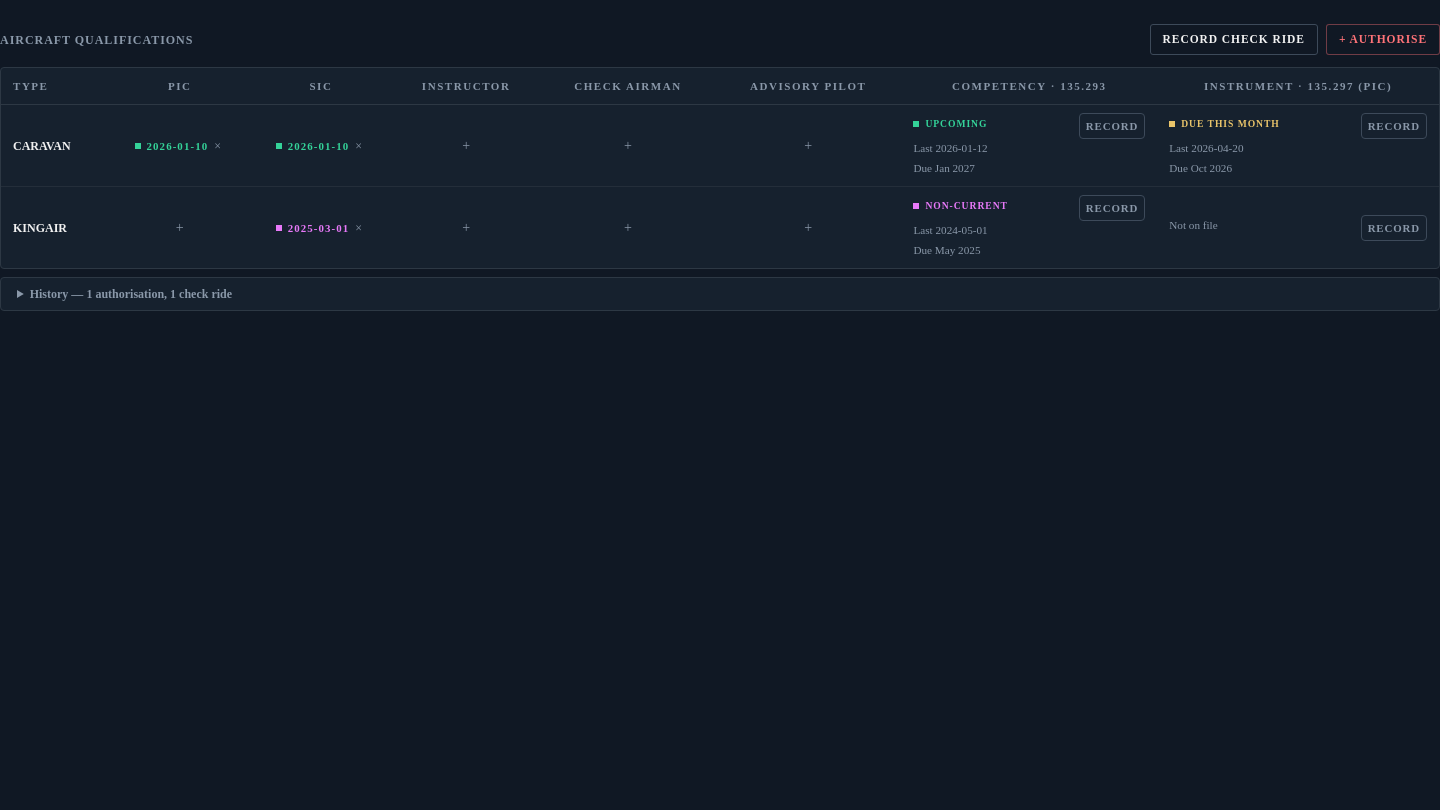
TypeQualificationsCard › revokes by the authorisation behind the cell, and shows a refusal
Click the button named "Revoke SIC on KINGAIR". click: {"x": 359, "y": 228}
box: [351,220,366,236]
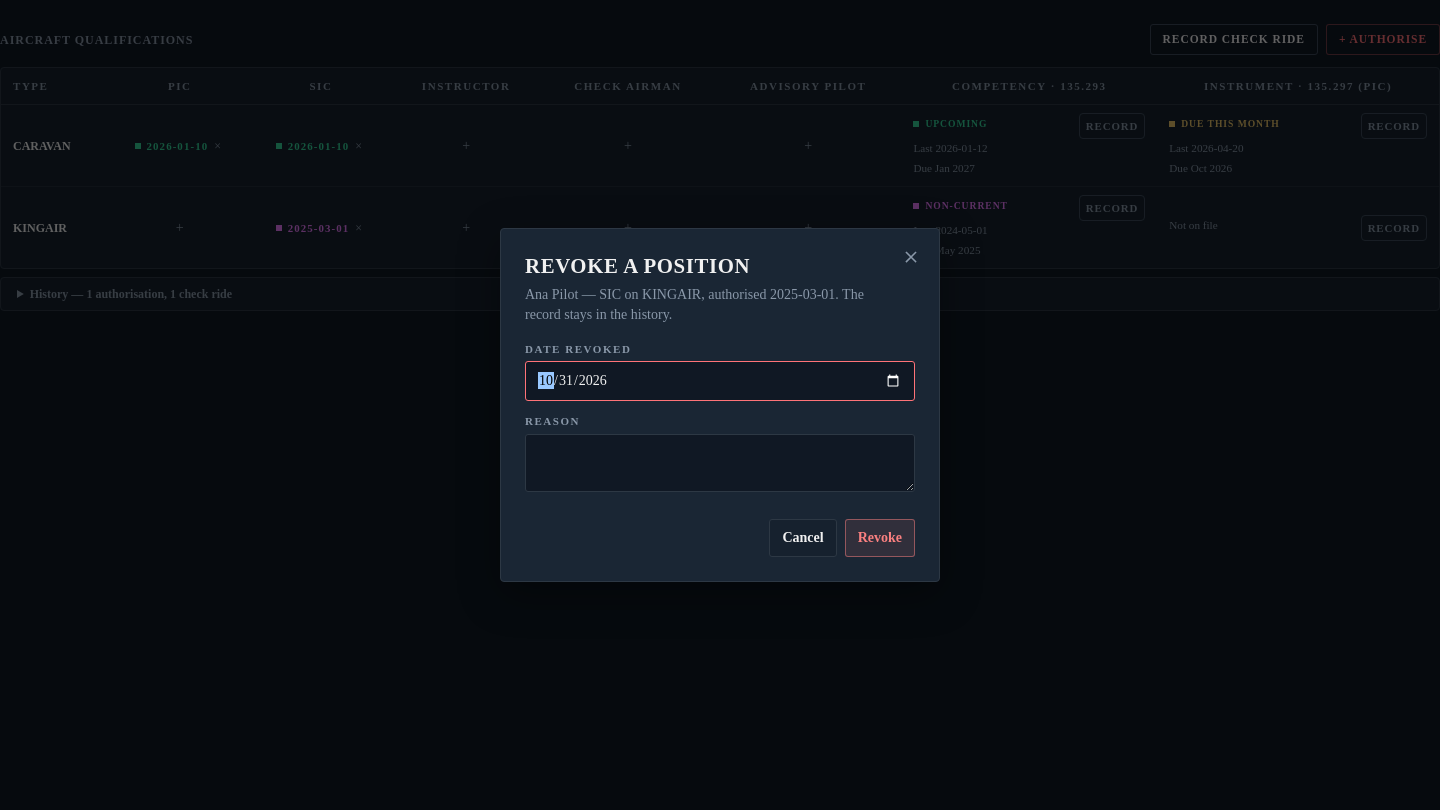
Check: the dialog shows "SIC on KINGAIR, authorised 2025-03-01", box [500,228,940,582]
Type "Moved to the Caravan" into the text box labelled "Reason". click: {"x": 720, "y": 463}
box: [525,434,915,492]
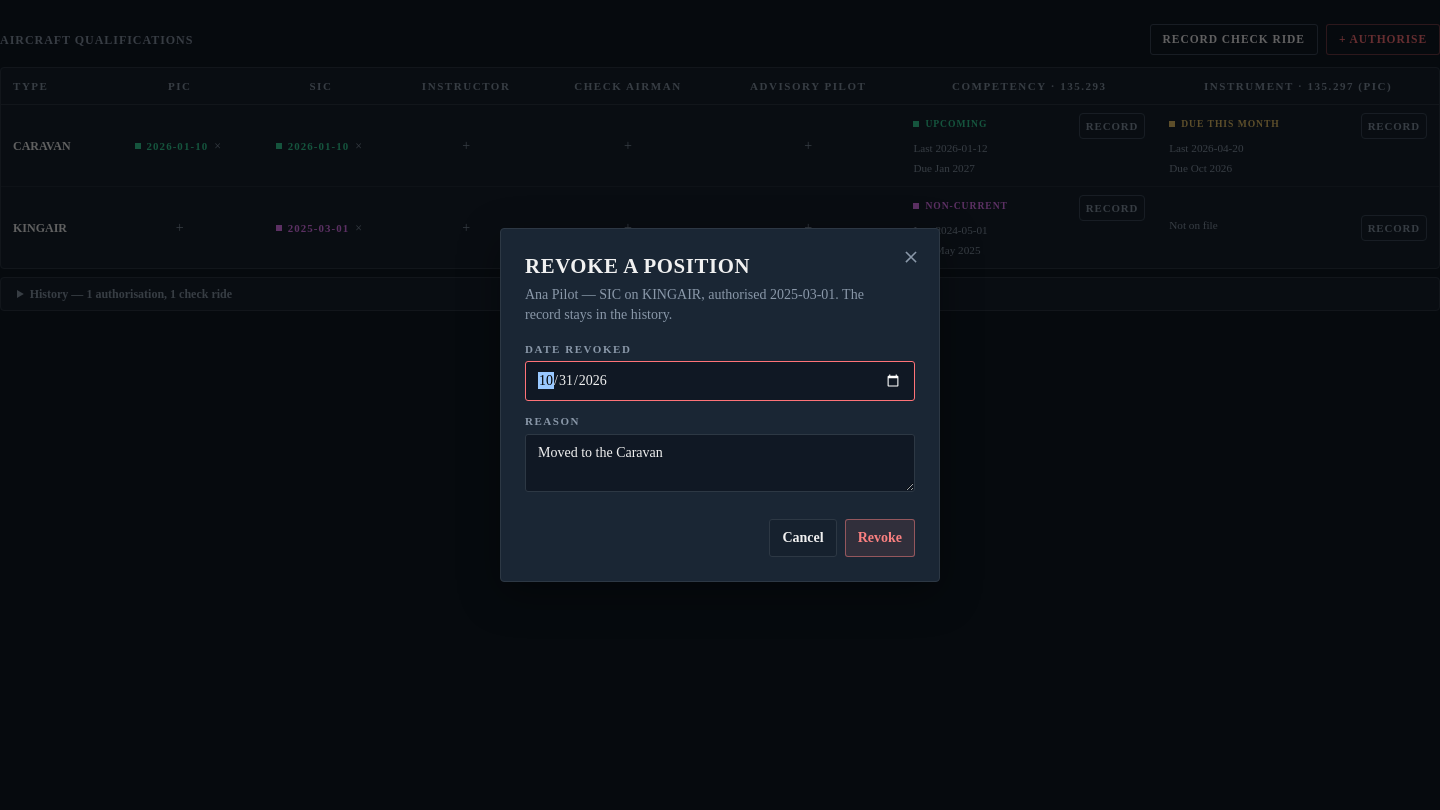
Click the button "Revoke". click: {"x": 880, "y": 538}
box: [845,519,915,557]
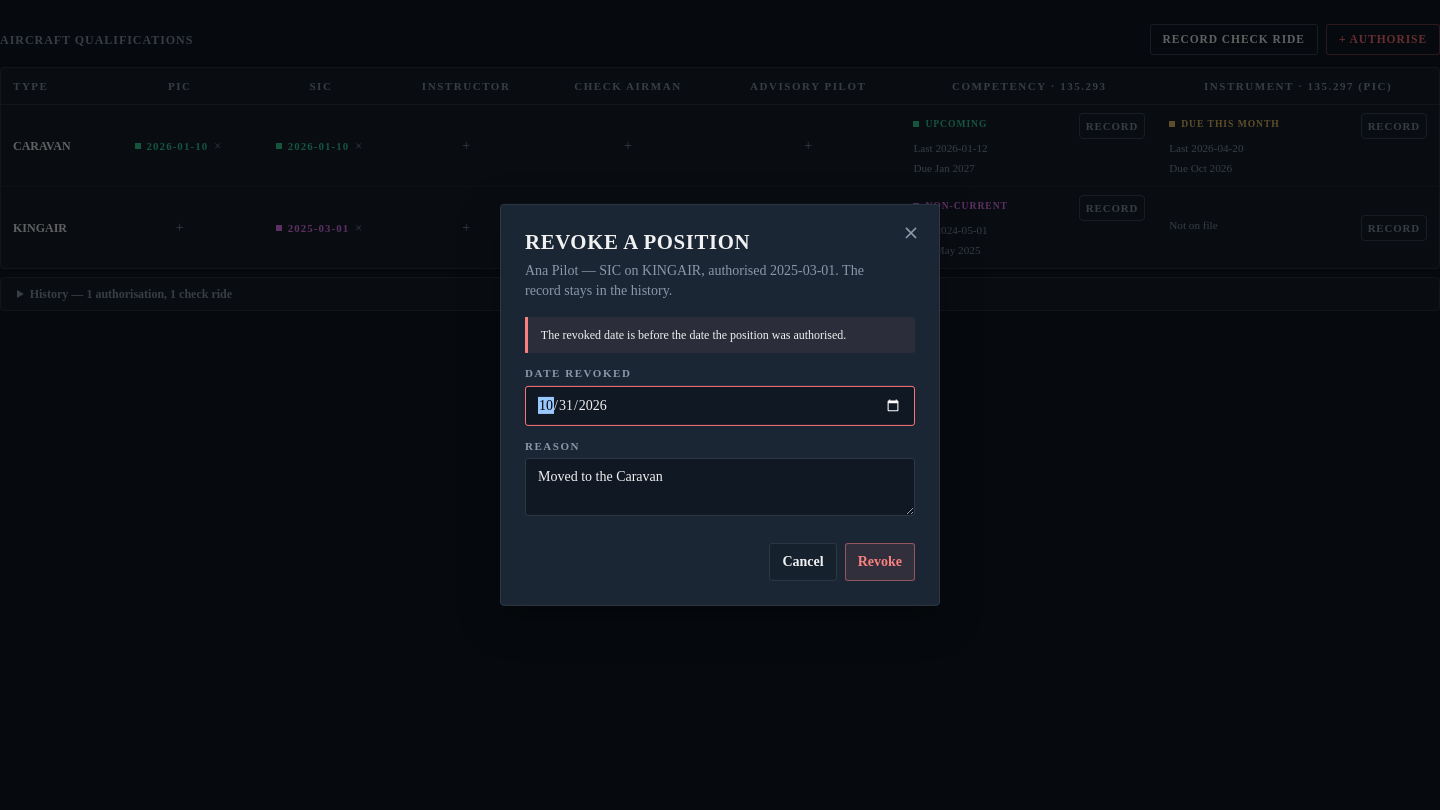
Check: the message reads "The revoked date is before the date the position was authorised.", box [541,328,846,342]
